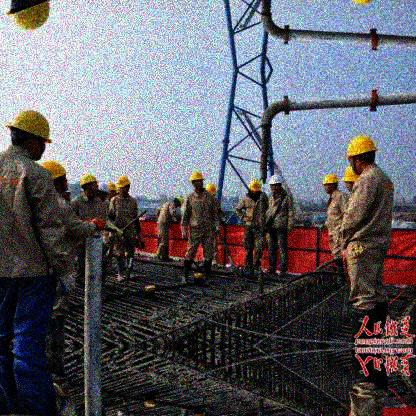helmet: (5, 109, 51, 161), (344, 136, 377, 175), (41, 160, 72, 191), (342, 166, 359, 193), (79, 176, 100, 197), (191, 170, 206, 192), (117, 176, 132, 197), (323, 175, 338, 195), (248, 179, 263, 196), (269, 175, 282, 194), (105, 183, 118, 199), (173, 193, 185, 207)
